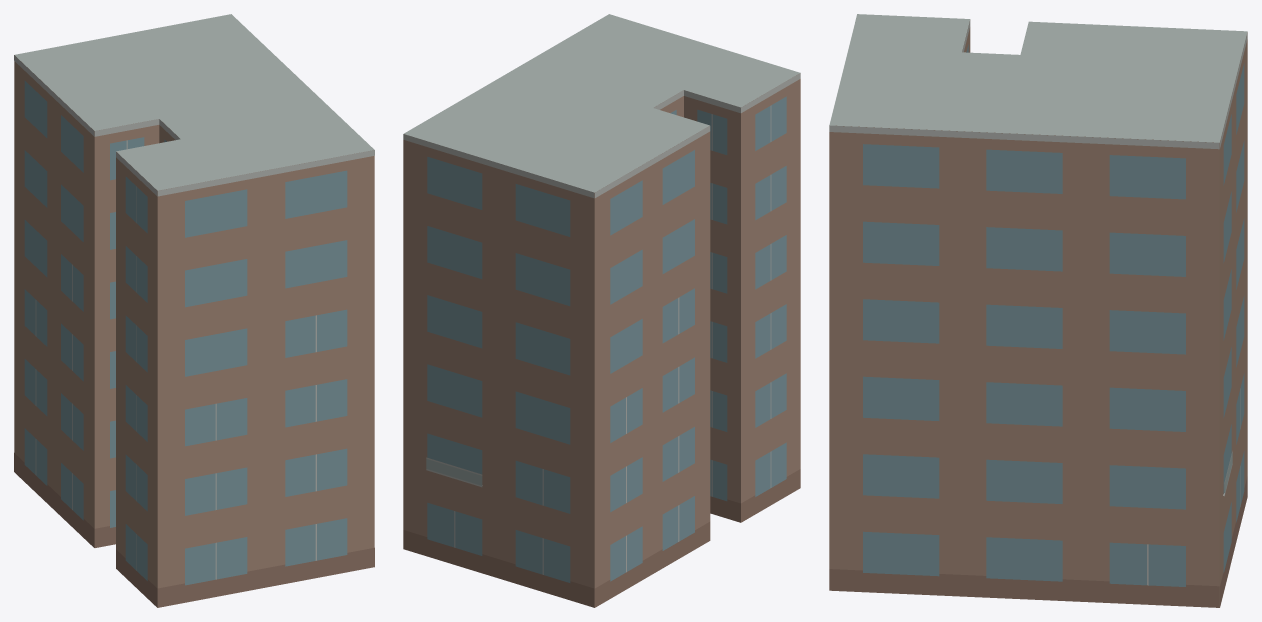
File: survey-upis-32879847.glb
3 views of the same model, side by side, from view 1: azimuth 30°, elevation 25°; view 2: azimuth 150°, elevation 25°; view 3: azimuth 270°, elevation 25° (orthographic). The views are drawn at different scales.
Parts seen in each view (by area): view 1: survey-upis-32879847.tmp; view 2: survey-upis-32879847.tmp; view 3: survey-upis-32879847.tmp.
Boxes of the visible parts, x1,y1,x2,y2 form: survey-upis-32879847.tmp: (14, 14, 374, 607); survey-upis-32879847.tmp: (403, 14, 800, 607); survey-upis-32879847.tmp: (829, 14, 1247, 607).
Bounding box in the file's own units: 10.33 × 17.4 × 14.19.
